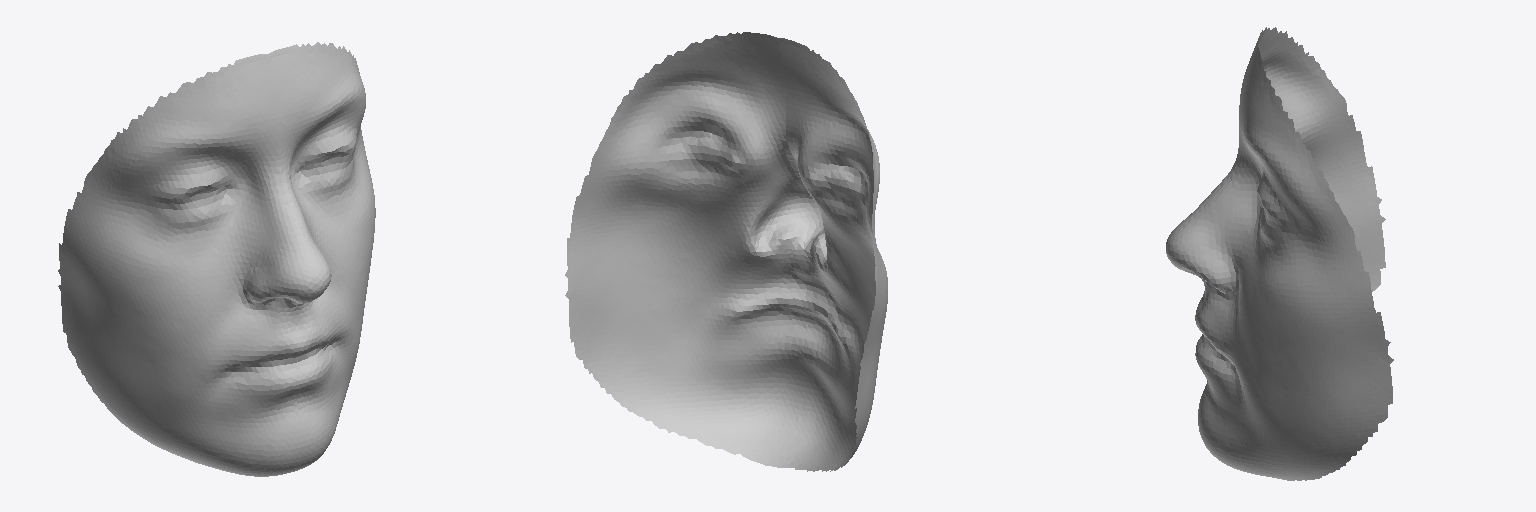
Rendered from SIMPOP_45.obj.
3 views of the same model, side by side, from view 1: azimuth 30°, elevation 25°; view 2: azimuth 150°, elevation 25°; view 3: azimuth 270°, elevation 25° (orthographic).
Parts seen in each view (by area): view 1: SIMPOP_45; view 2: SIMPOP_45; view 3: SIMPOP_45.
Part boxes in pixels (bbox=[...]): SIMPOP_45: bbox=[58, 42, 375, 476]; SIMPOP_45: bbox=[565, 32, 887, 471]; SIMPOP_45: bbox=[1166, 27, 1393, 480].
Bounding box in the file's own units: 124 × 166 × 81.63.